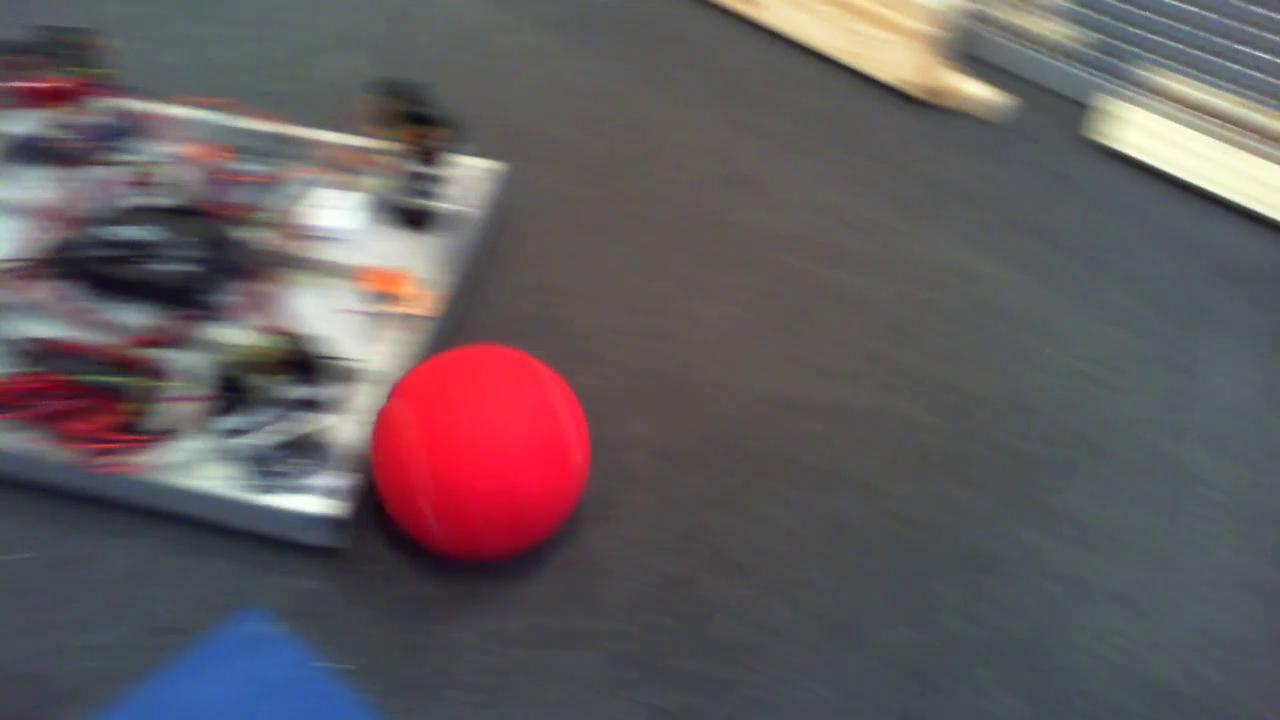Red_Ball: (344, 330, 607, 580)
